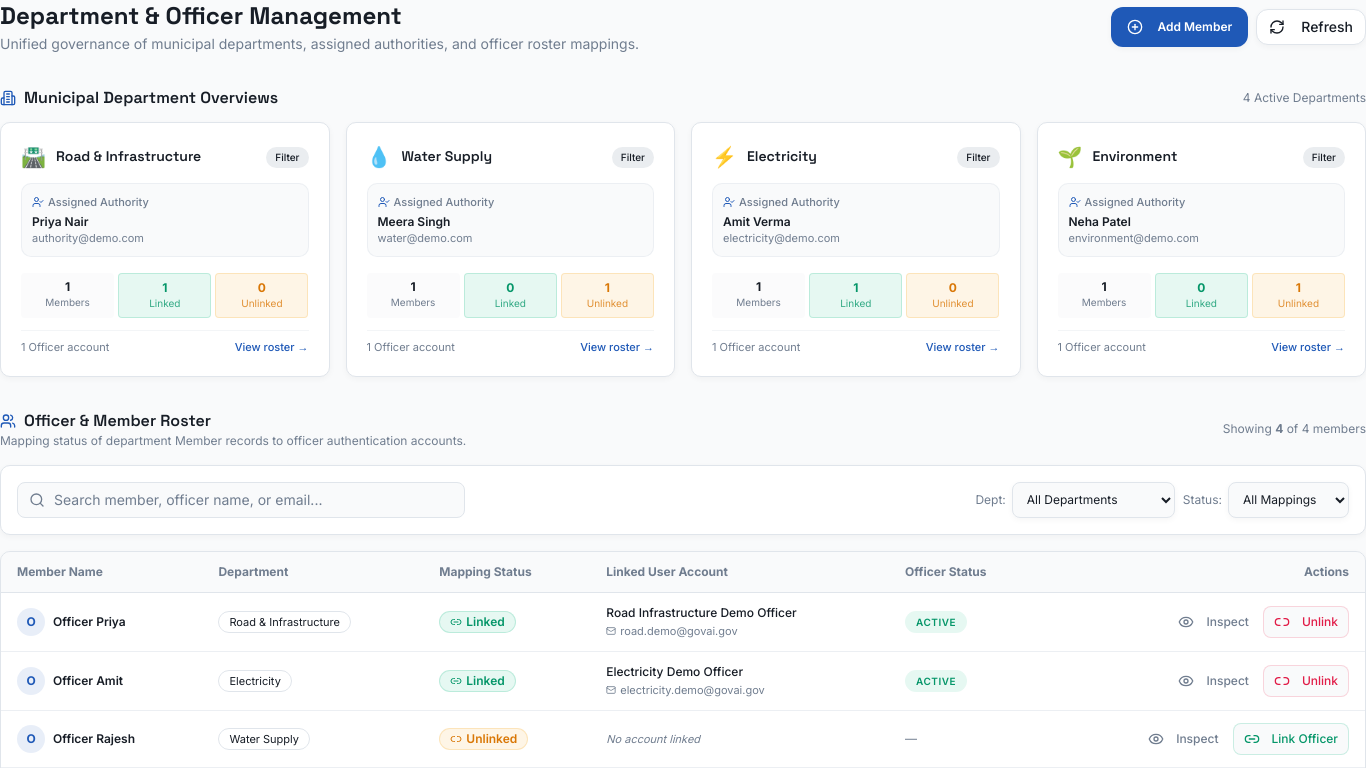
Test case: Admin Department & Officer Management Page › filters roster by mapping status (Linked Only vs Unlinked Only)
The width and height of the screenshot is (1366, 768).
Expected: the text "Officer Priya" is shown, left=53, top=614, right=126, bottom=630
// Filter to Linked Only
Select "Linked Only" in the dropdown with test id "mapping-filter-select": (1288, 500) left=1228, top=482, right=1349, bottom=518
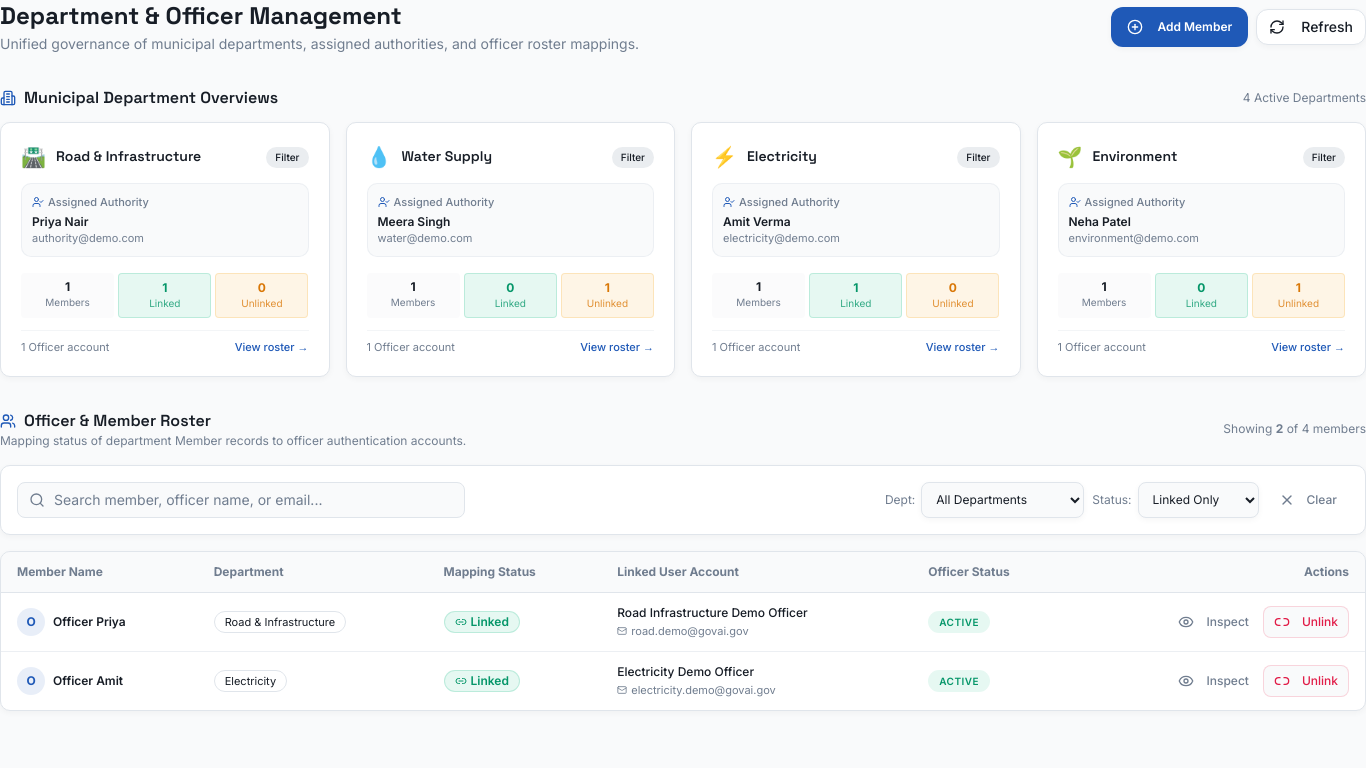
Expected: the text "Officer Priya" is shown, left=53, top=614, right=126, bottom=630
Result: the text "Officer Rajesh" is gone
// Filter to Unlinked Only
Select "Unlinked Only" in the dropdown with test id "mapping-filter-select": (1198, 500) left=1138, top=482, right=1258, bottom=518
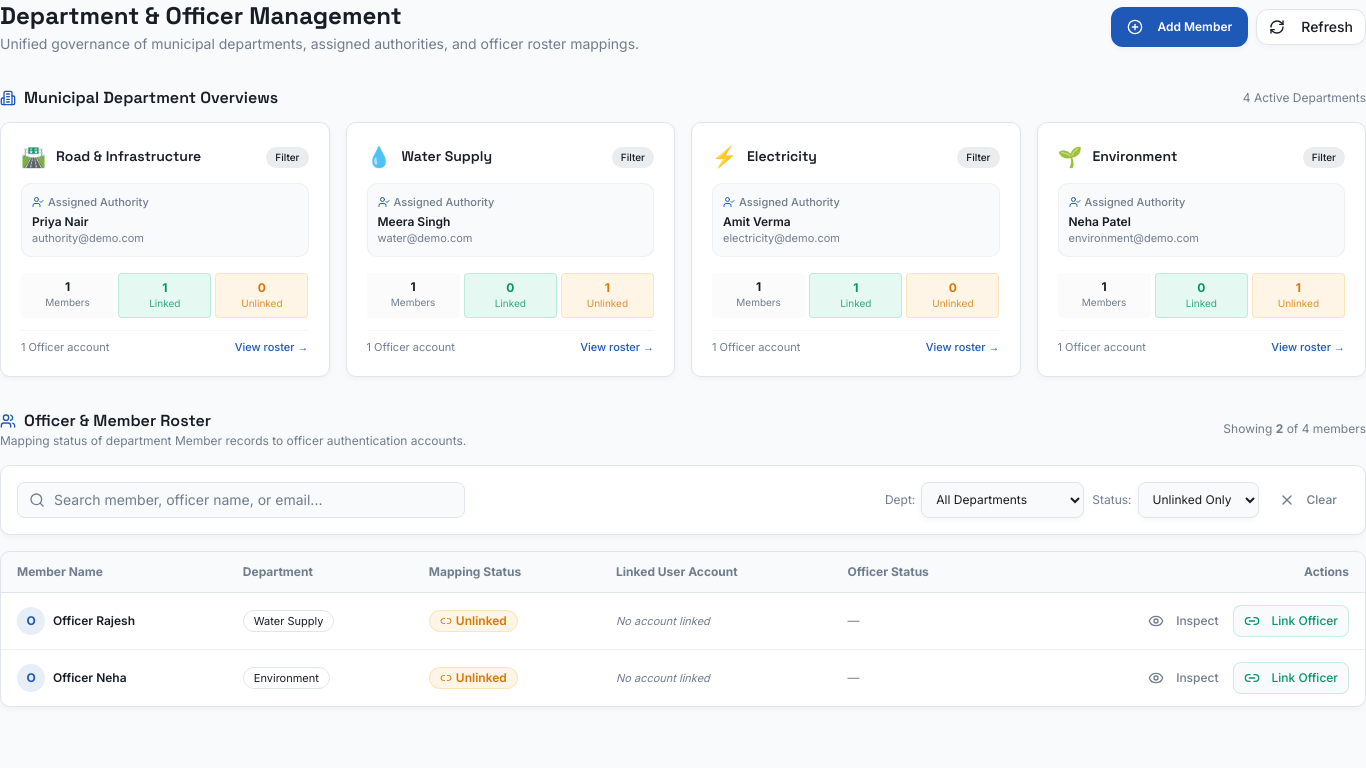
Result: the text "Officer Rajesh" is shown at left=53, top=612, right=135, bottom=628
Result: the text "Officer Neha" is shown at left=53, top=670, right=127, bottom=686
Result: the text "Officer Priya" is gone
